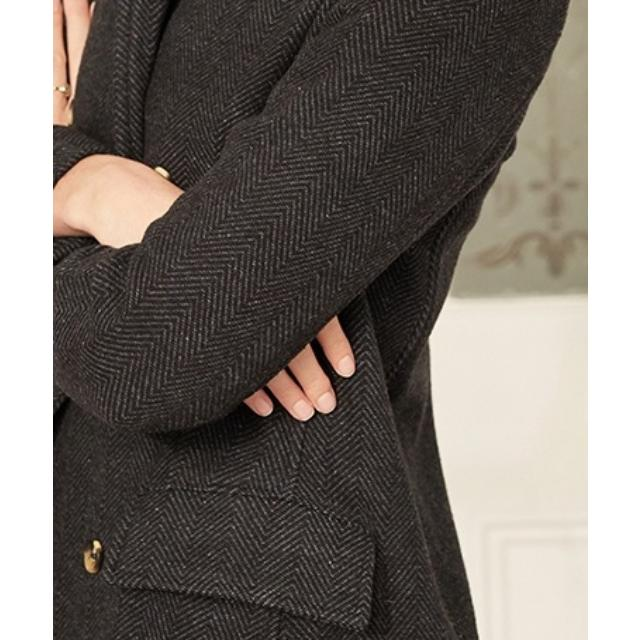polyester: (52, 0, 588, 640)
